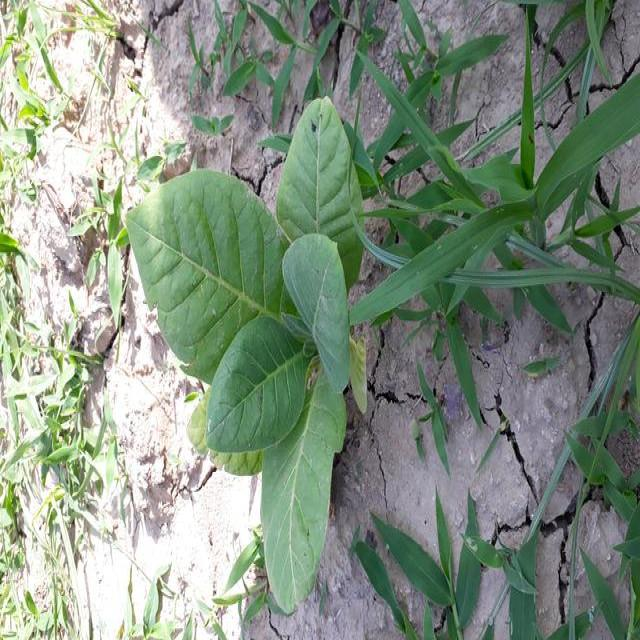crop: (136, 100, 390, 602)
